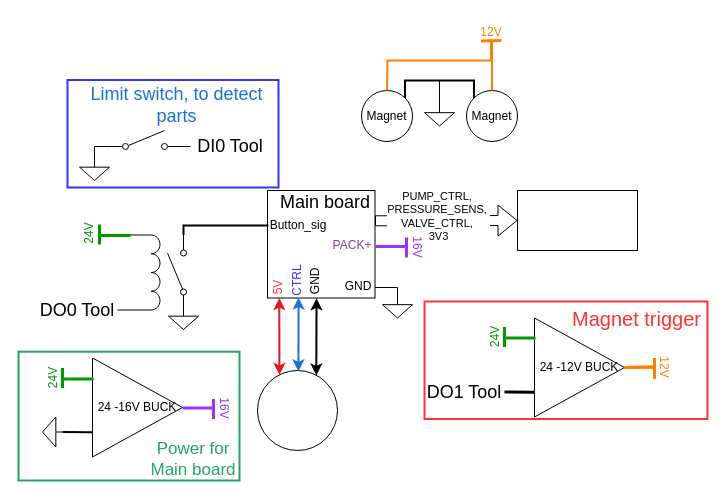
Image size: 725x498. Some labels were removed from this diagram. The shapes that lost their labels are listed below. From the top down, each one's box as (x1, y1, x2, y2) in pixels, then its label:
(516, 190, 638, 250): V-UNIT
(256, 370, 338, 450): Ledring
